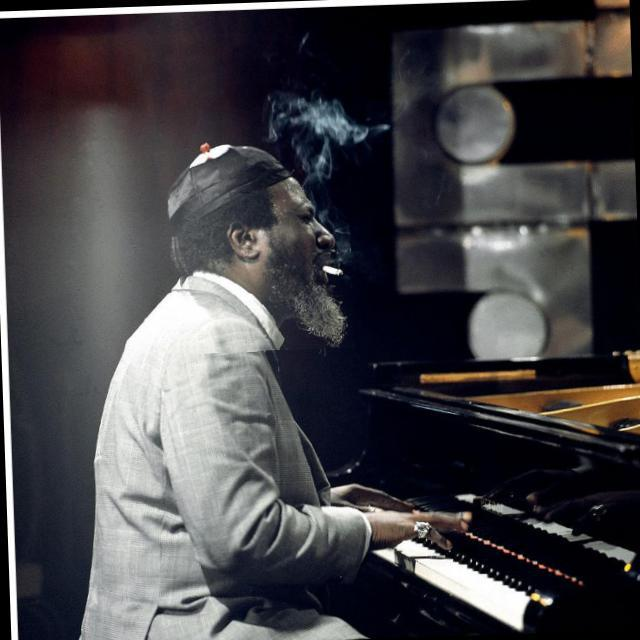cigarette: (311, 251, 361, 285)
